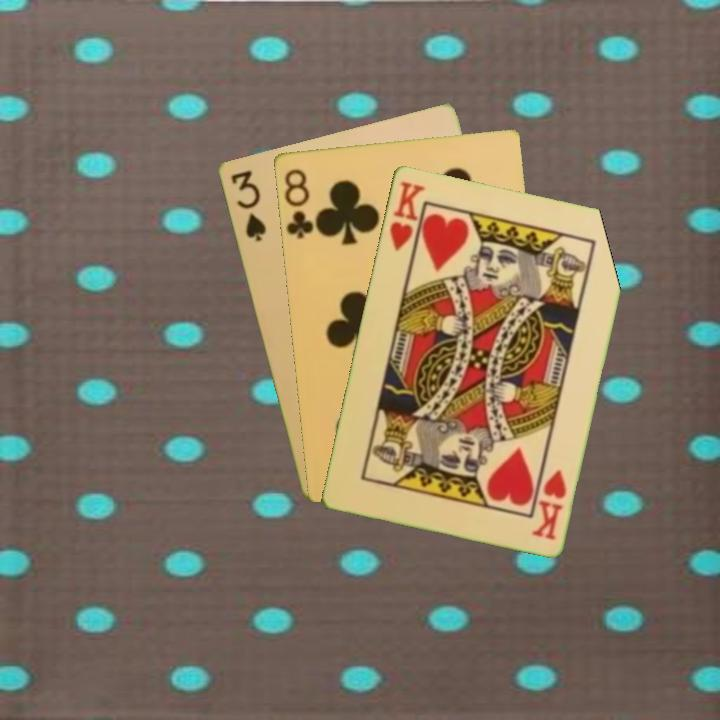3s: (227, 166, 269, 244)
8c: (280, 164, 316, 242)
Kh: (385, 177, 428, 262), (528, 464, 569, 542)
